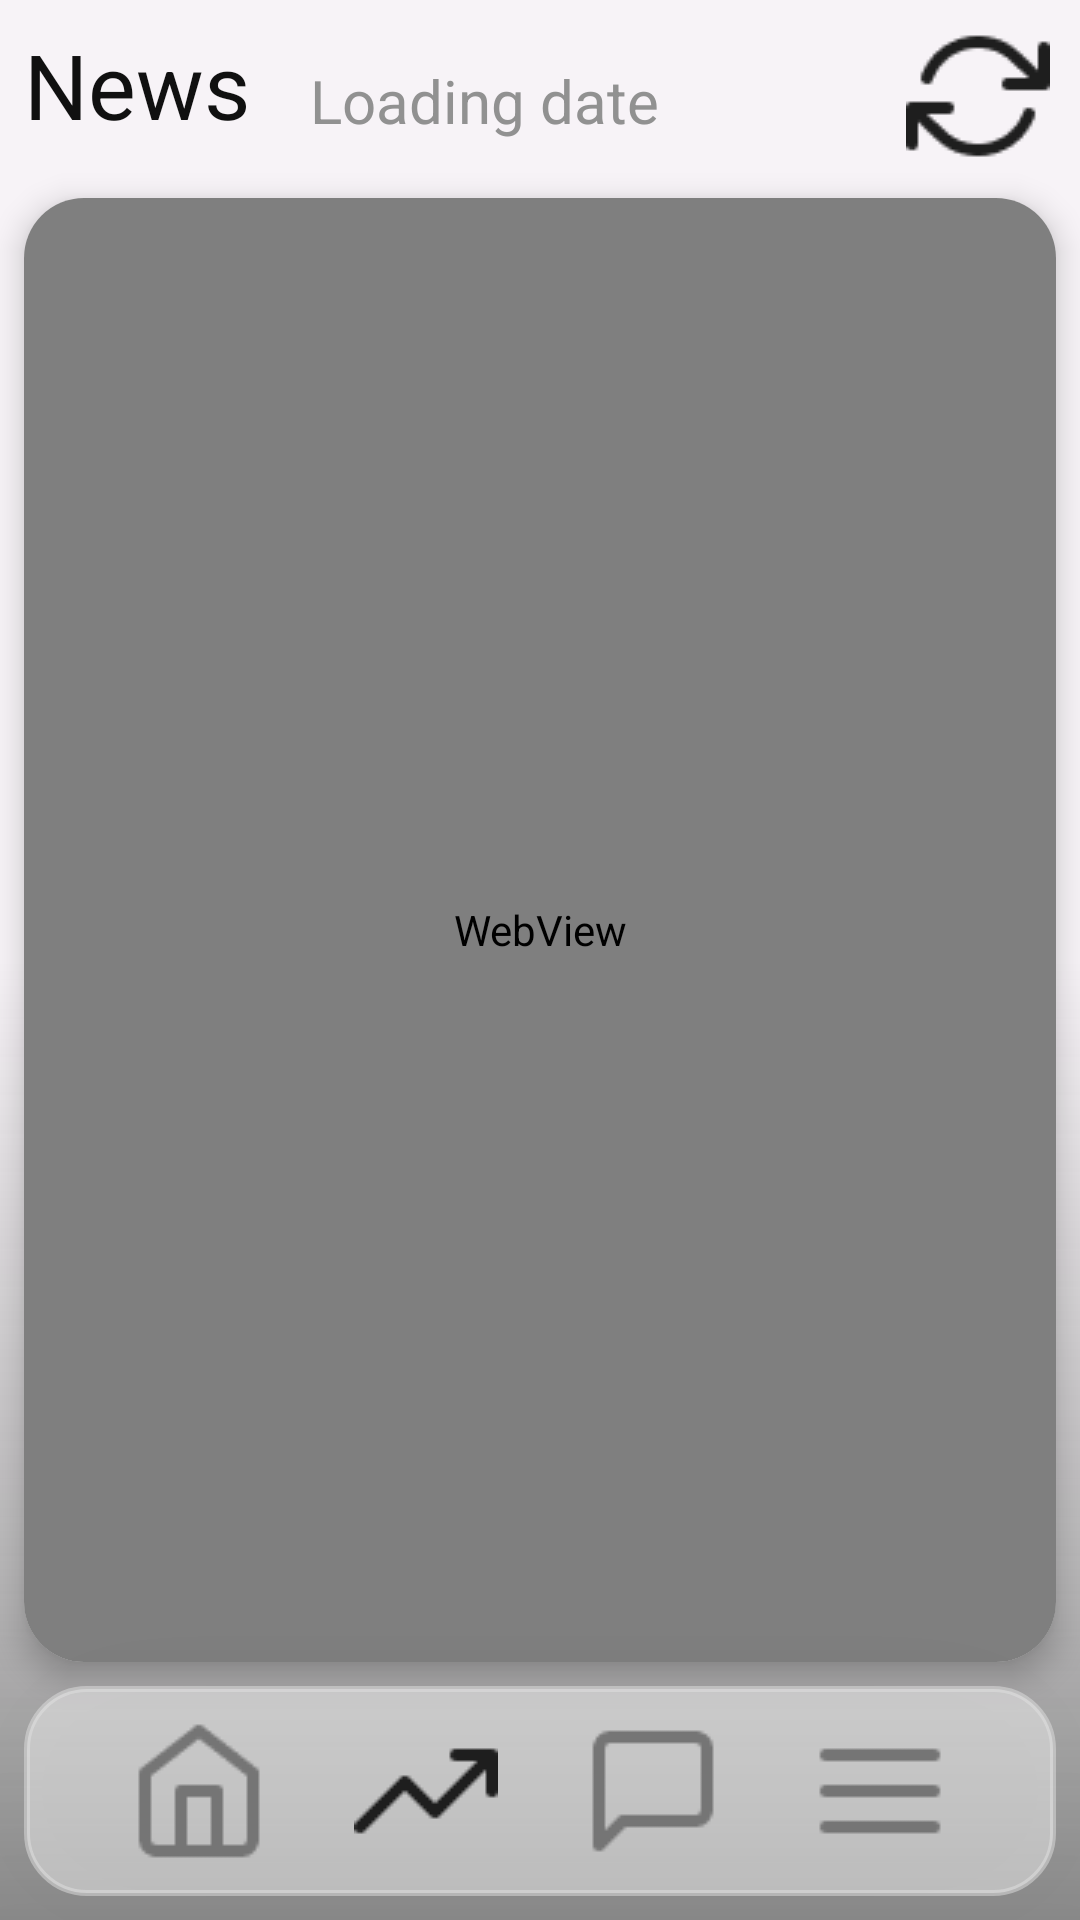

Screen size 1080w x 1920h. Icon name, then its box in pixels as [x1=x1, y1=y1, x2=x2, y2=y2]:
chat: [x1=592, y1=1731, x2=714, y2=1852]
home: [x1=138, y1=1725, x2=260, y2=1858]
menu: [x1=819, y1=1748, x2=941, y2=1834]
refresh: [x1=906, y1=35, x2=1050, y2=157]
